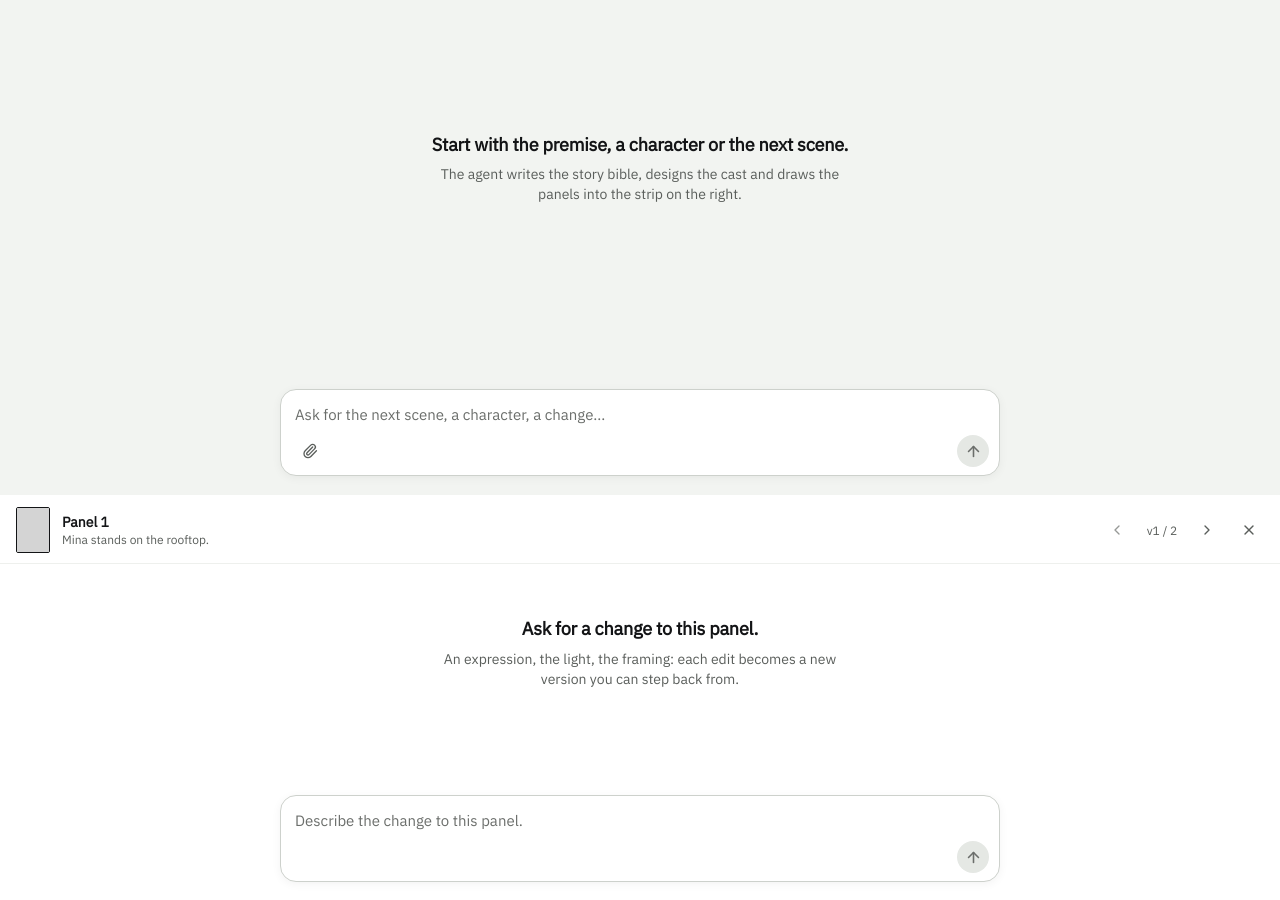
Scenario: VersionSwitcher › steps forward again with next
The width and height of the screenshot is (1280, 900).
Click the button with test id "version-next" at (1207, 530), box [1192,516,1222,546]
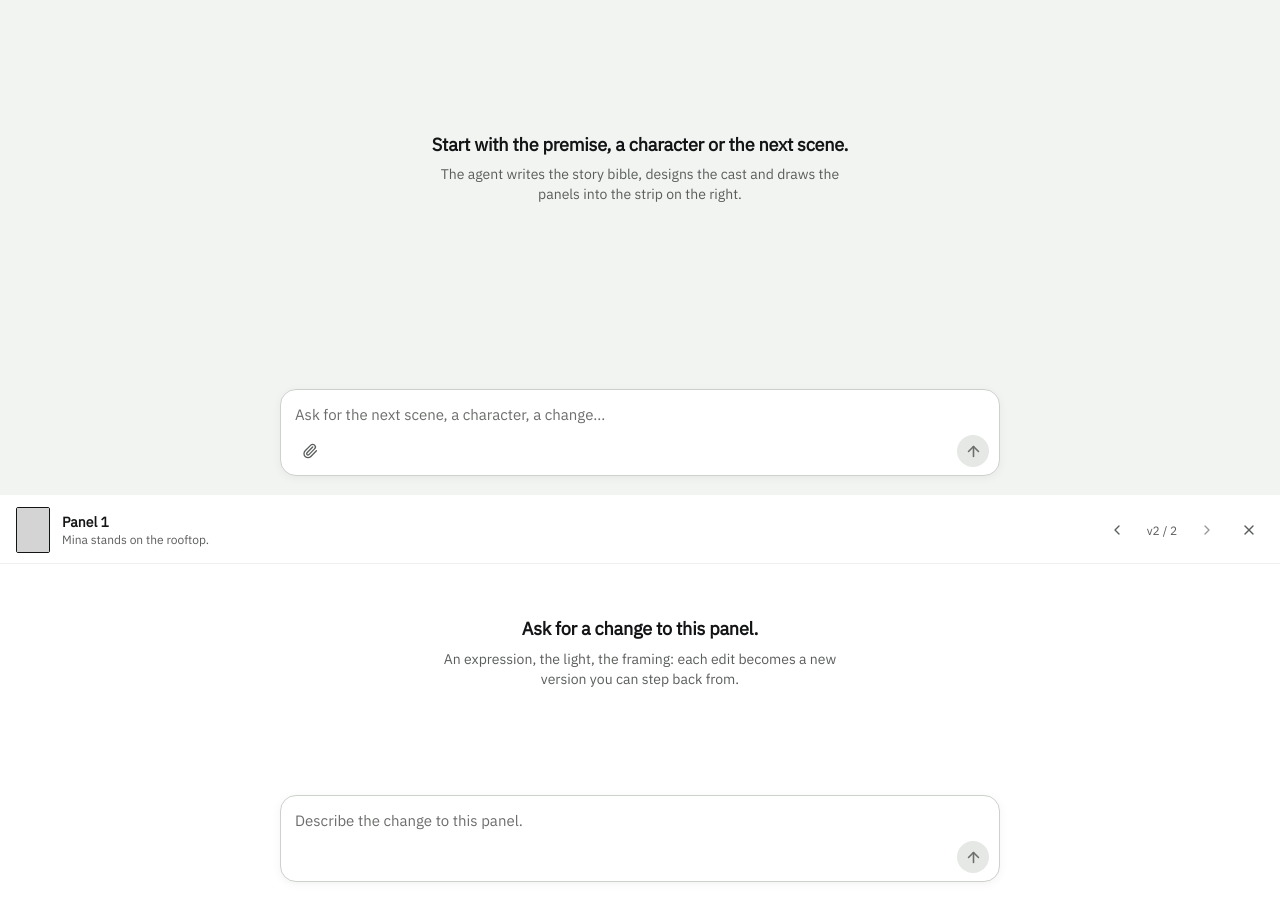
Expected: the text with test id "panel-version-label" reads "v2 / 2", [1147,523,1177,538]
